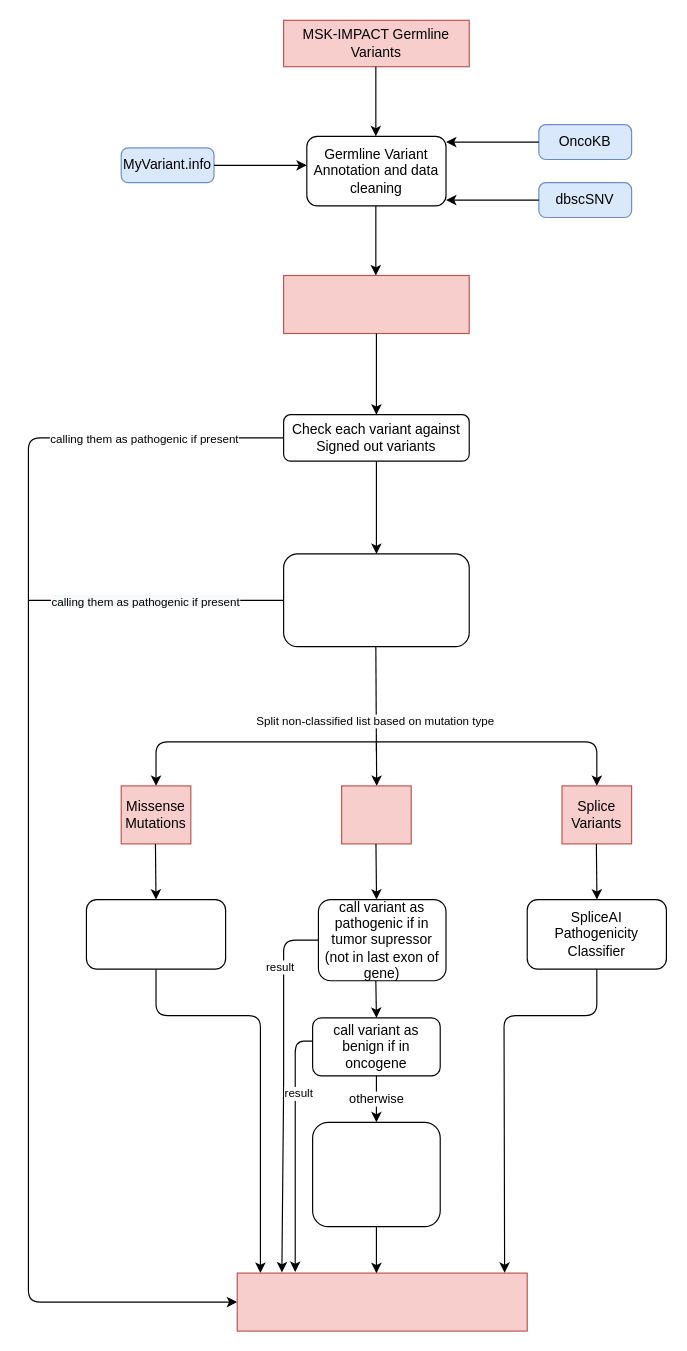
The diagram is 687 pixels wide and 1351 high, and some of its shapes have lost their labels. Each missing label, with the centre of its shape:
Annotated germline mutations (classification ready): pixel 375 304
Check each variant against ClinVar classification: pixel 375 600
List of variants and their pathogenicity: pixel 381 1301
Pathogenicity Classification (Random Forest Classifier): pixel 155 933
Truncating Mutation Classifier (remaining unclassified mutations): pixel 375 1174
Truncating Mutations: pixel 375 814
